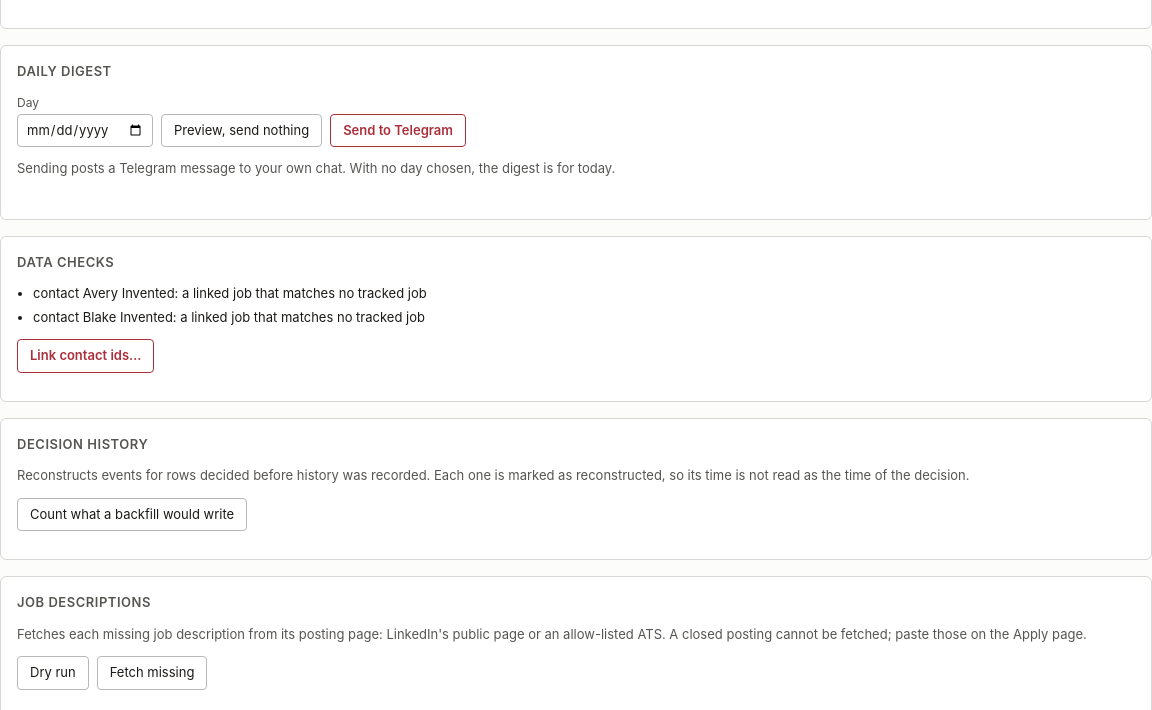
Test: linking contact ids is a separate confirmed action that names the count
The width and height of the screenshot is (1152, 710).
(page scrolled)
Click the button "Link contact ids…" at coordinates (86, 356), box [17,339,154,373]
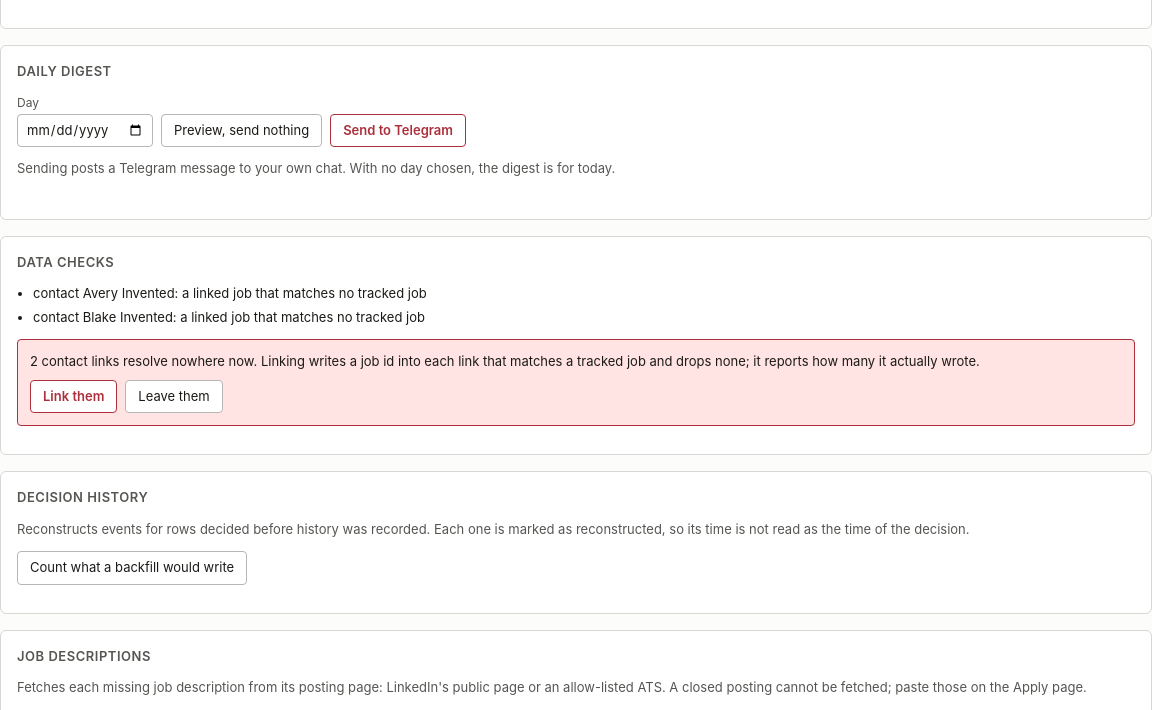
Now the element named "Confirm linking" shows "2 contact links resolve nowhere now", box [17,339,1135,426]
Click the button "Link them" at coordinates (74, 397), box [30,380,117,413]
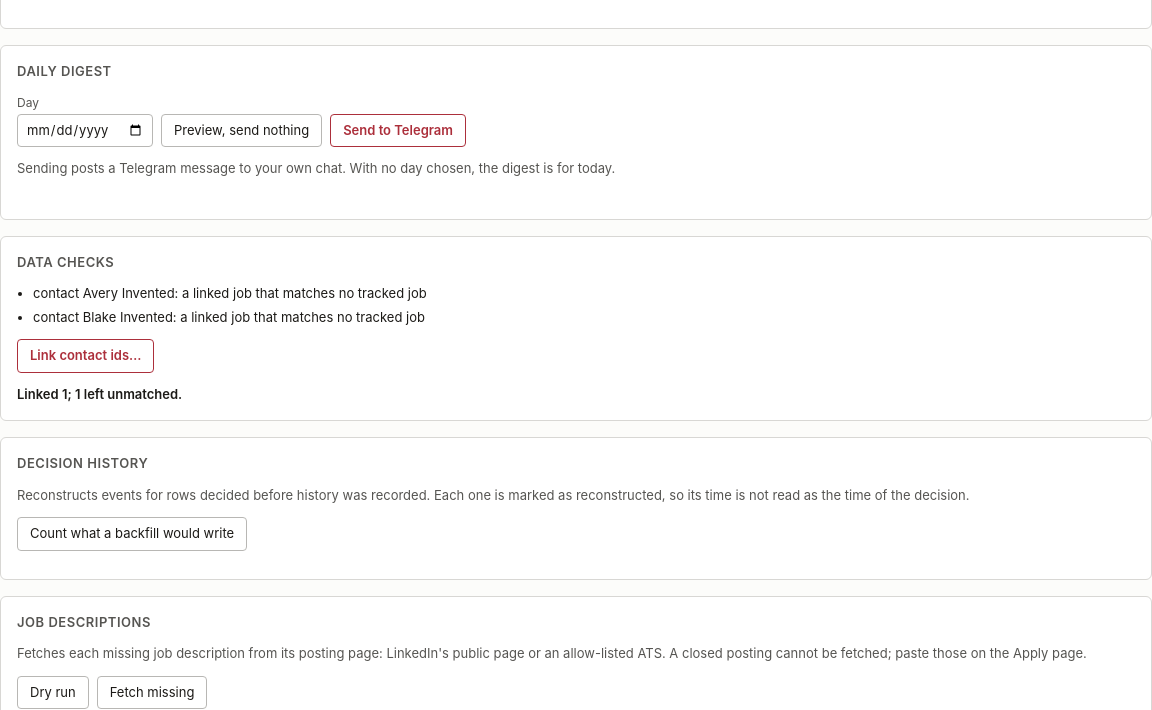
Now the text "Linked 1; 1 left unmatched." is shown, box [17,386,182,402]
